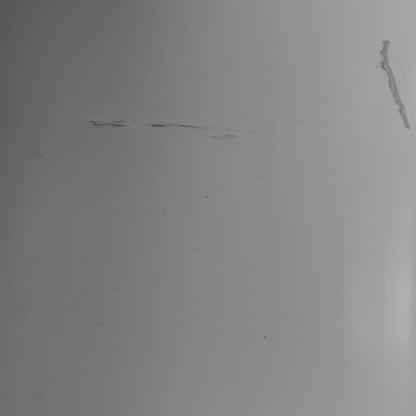sunshang: (85, 118, 269, 139), (379, 40, 416, 131)
